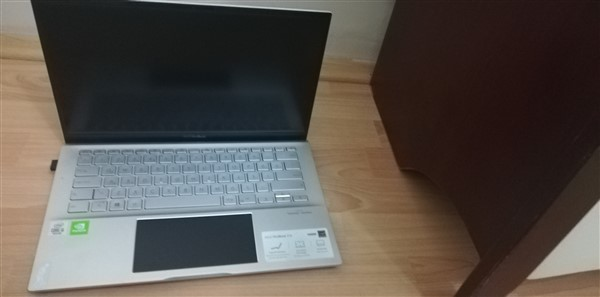laptop: (19, 1, 342, 295)
